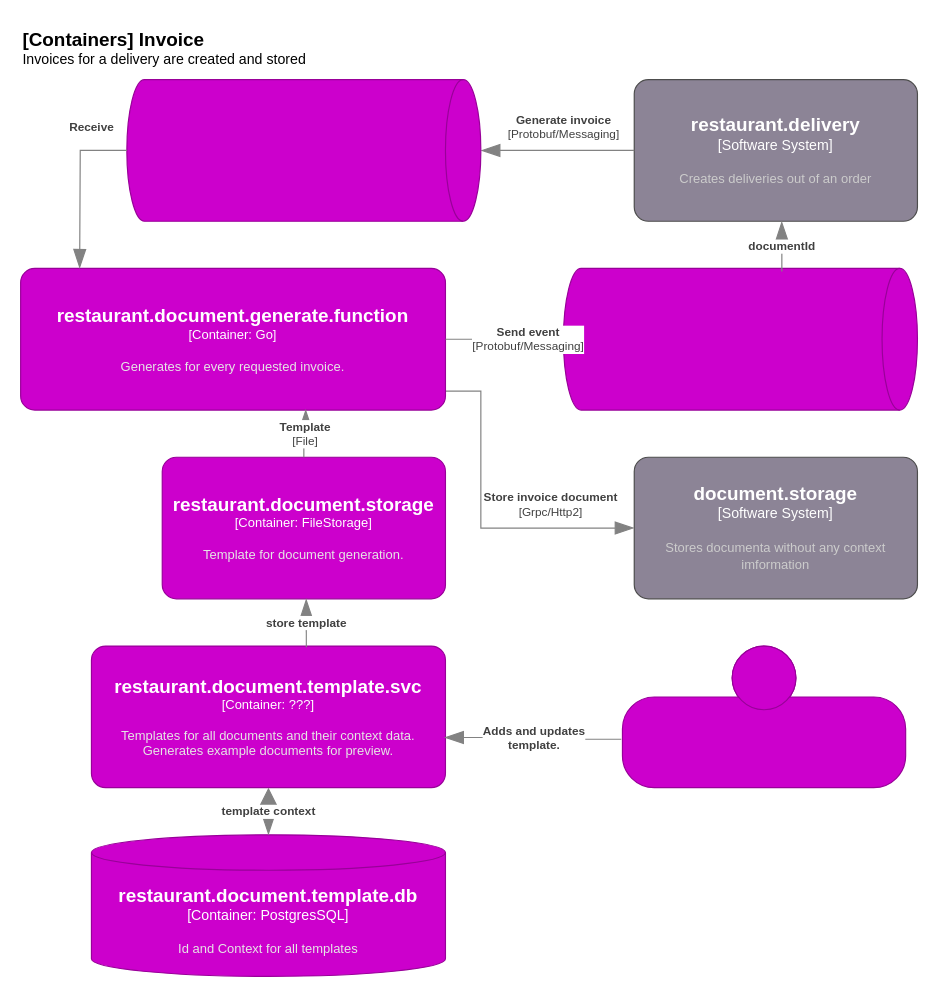
This 938x997 diagram has some shape labels left out. Each missing label, with the centre of its shape:
"restaurant.document.generate [Queue: ???] Requests for all documents" goes at (x=303, y=149).
"restaurant.document.generated [Topic: ???] Event for every generated document" goes at (x=739, y=338).
"Template designer [Person] Designs and optimize documents." goes at (x=763, y=716).
